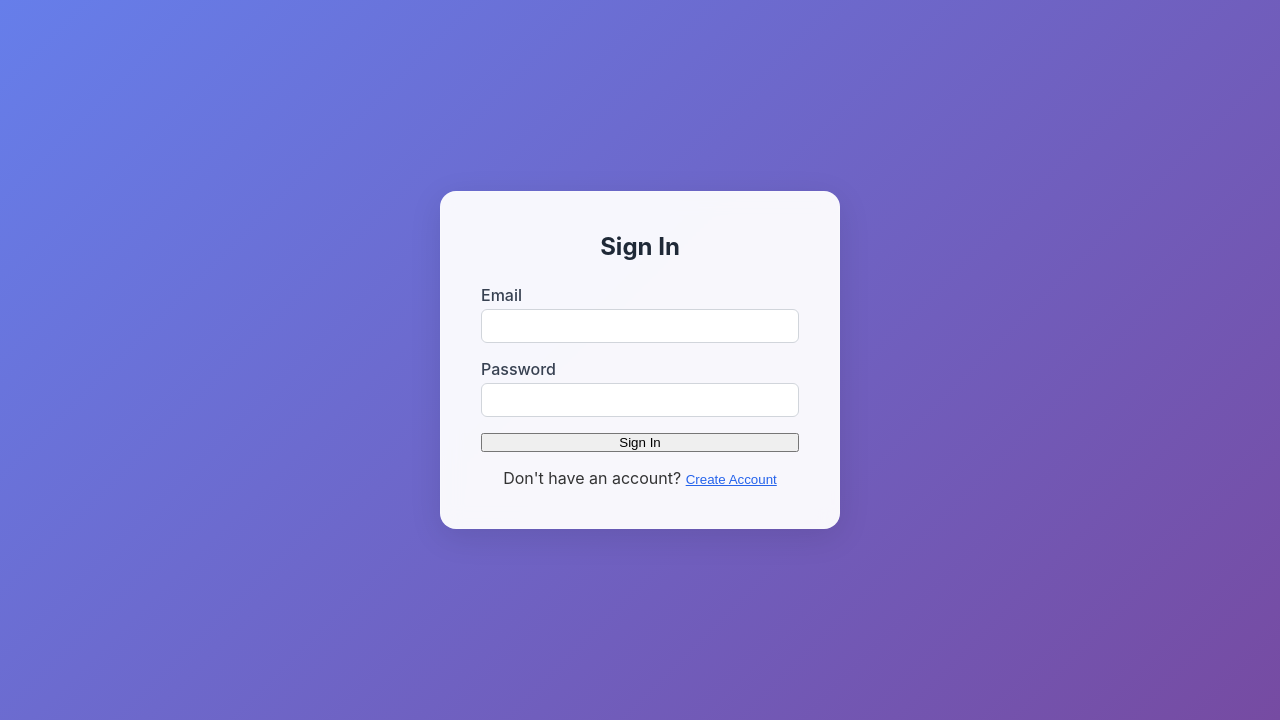
Test: Login › toggles between sign in and sign up
Step 1. Click the button "Create Account" → (731, 480), box [686,472,777,487]
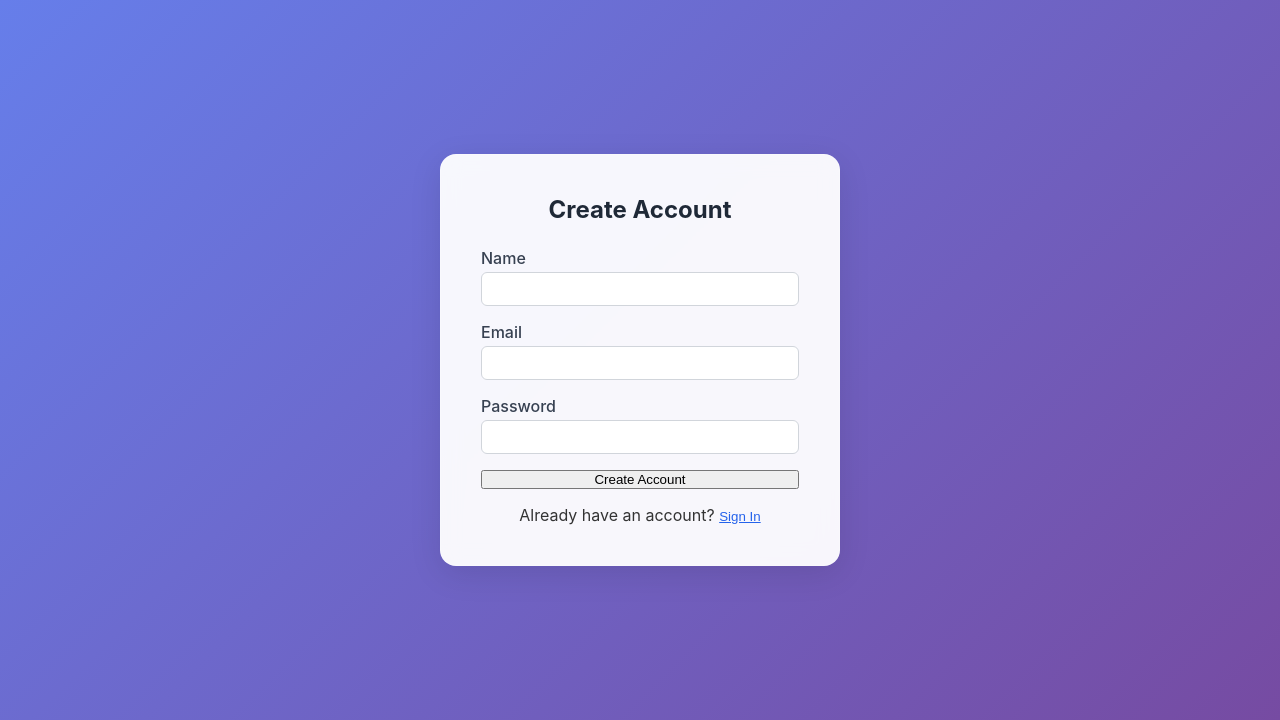
Check: the button "Sign In" is shown, box [719,509,761,524]
